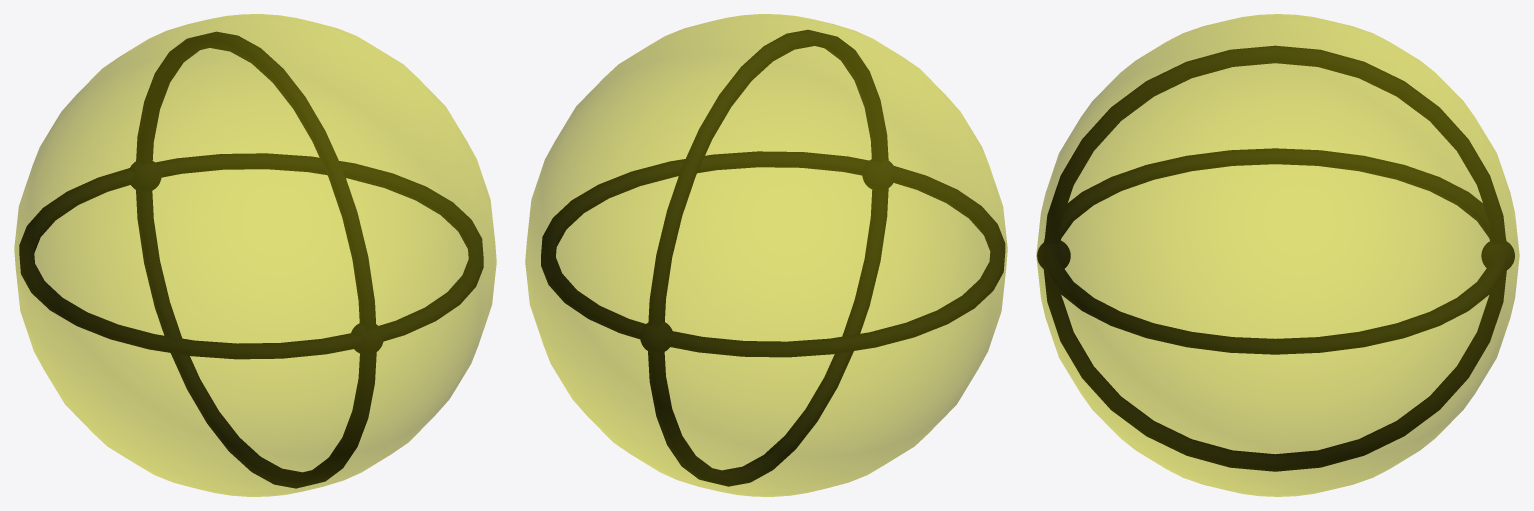
The model's file is bola.glb.
3 views of the same model, side by side, from view 1: azimuth 30°, elevation 25°; view 2: azimuth 150°, elevation 25°; view 3: azimuth 270°, elevation 25° (orthographic).
Parts seen in each view (by area): view 1: Sphere.016, Circle.019, Circle.018, Sphere.046, Sphere.045; view 2: Sphere.016, Circle.019, Circle.018, Sphere.045, Sphere.046; view 3: Sphere.016, Circle.019, Circle.018, Sphere.046, Sphere.045.
Boxes of the visible parts, box(x1,y1,x2,y2) form: Sphere.016: box(14, 14, 496, 496); Circle.019: box(136, 31, 376, 488); Circle.018: box(19, 153, 483, 359); Sphere.046: box(130, 161, 161, 192); Sphere.045: box(351, 323, 383, 354); Sphere.016: box(525, 14, 1007, 496); Circle.019: box(648, 30, 888, 486); Circle.018: box(541, 151, 1005, 357); Sphere.045: box(862, 159, 893, 190); Sphere.046: box(640, 322, 672, 353); Sphere.016: box(1036, 14, 1519, 496); Circle.019: box(1044, 45, 1506, 471); Circle.018: box(1044, 148, 1505, 354); Sphere.046: box(1481, 241, 1514, 270); Sphere.045: box(1037, 240, 1070, 270).
Size of the model in its own units: 3.61 by 3.61 by 3.61.
